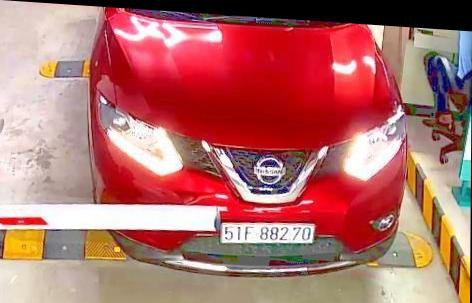License_Plate: (220, 213, 318, 254)
